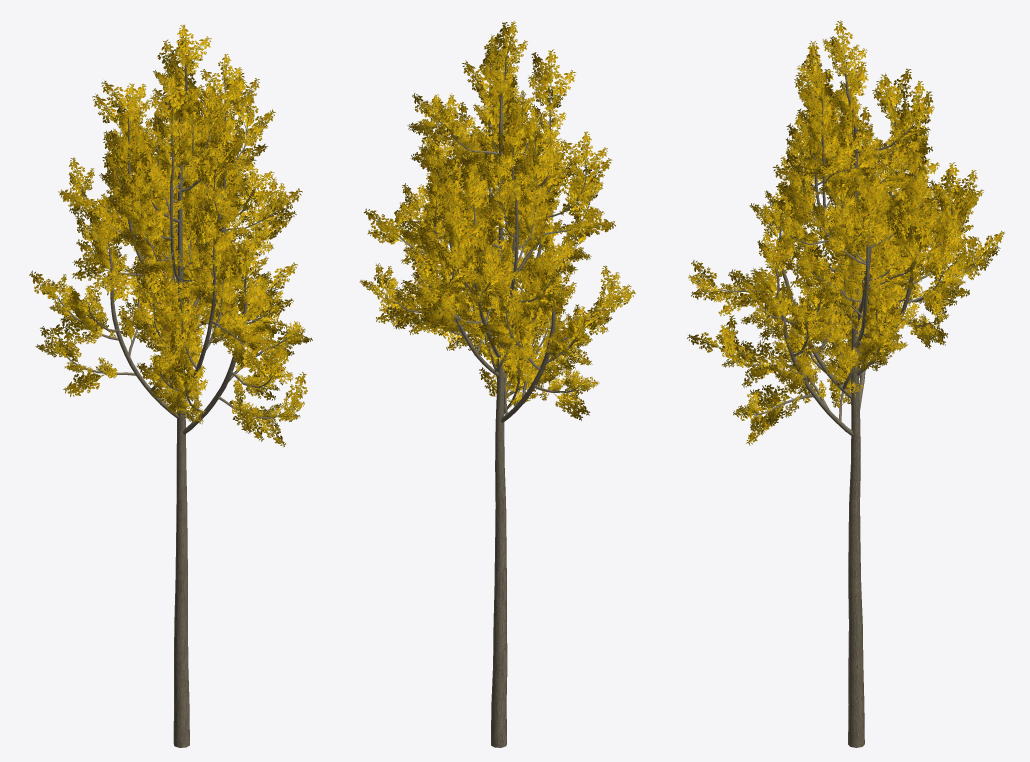
Rendered from tree_LOD0.glb.
The picture shows the model from 3 angles, left to right: view 1: azimuth 30°, elevation 25°; view 2: azimuth 150°, elevation 25°; view 3: azimuth 270°, elevation 25°; orthographic projection.
Visible parts, largest first — view 1: Leaves_LOD0, Branches_LOD0; view 2: Leaves_LOD0, Branches_LOD0; view 3: Leaves_LOD0, Branches_LOD0.
Boxes of the visible parts, <box> form: Leaves_LOD0: <box>29,24,312,447</box>; Branches_LOD0: <box>56,65,288,747</box>; Leaves_LOD0: <box>359,21,635,420</box>; Branches_LOD0: <box>386,60,611,747</box>; Leaves_LOD0: <box>687,20,1004,445</box>; Branches_LOD0: <box>713,60,975,747</box>.
Size of the model in its own units: 38.07 by 105 by 44.69.
2 materials, 2 textured.
